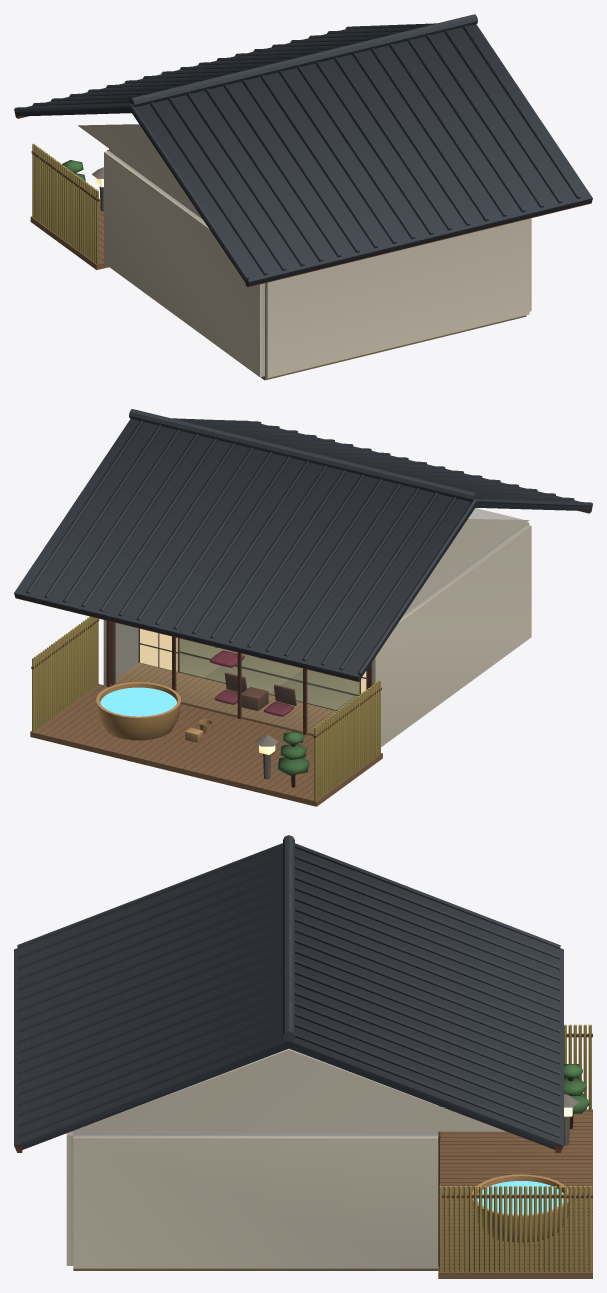
The model's file is hk-onsen.glb.
3 renders of one model, top to bottom at view 1: azimuth 30°, elevation 25°; view 2: azimuth 150°, elevation 25°; view 3: azimuth 270°, elevation 25°, orthographic. The views are drawn at different scales.
Visible parts, largest first — view 1: Room_rooftile, Room_plaster, Room_bamboo, Room_deck, Room_hinokiDark, Room_subfloor; view 2: Room_rooftile, Room_plaster, Room_glass, Room_deck, Room_bamboo, Room_hinoki, Room_hinokiDark, Room_tatami, Room_water, Room_washi, Room_leaf, Room_zabuton (+2 smaller); view 3: Room_rooftile, Room_plaster, Room_deck, Room_bamboo, Room_hinokiDark, Room_ceiling, Room_hinoki, Room_subfloor, Room_water, Room_leaf.
Boxes of the visible parts, x1,y1,x2,y2 form: Room_rooftile: (14,14,592,286); Room_plaster: (78,124,531,377); Room_bamboo: (32,143,98,264); Room_deck: (30,200,108,269); Room_hinokiDark: (16,116,591,287); Room_subfloor: (261,315,526,380); Room_rooftile: (14,409,592,681); Room_plaster: (103,519,531,746); Room_glass: (110,622,367,733); Room_deck: (30,684,382,806); Room_bamboo: (32,616,380,800); Room_hinoki: (96,662,336,742); Room_hinokiDark: (15,511,591,800); Room_tatami: (179,638,359,710); Room_water: (100,687,176,716); Room_washi: (140,628,366,754); Room_leaf: (277,731,309,775); Room_zabuton: (210,650,293,716); Room_rooftile: (14,835,563,1151); Room_plaster: (66,1050,506,1268); Room_deck: (438,1109,592,1278); Room_bamboo: (439,1024,591,1272); Room_hinokiDark: (17,1033,592,1268); Room_ceiling: (73,1048,438,1135); Room_hinoki: (472,1174,568,1242); Room_subfloor: (73,1268,438,1270); Room_water: (477,1181,563,1214); Room_leaf: (564,1064,589,1113).
Size of the model in its own units: 8.45 by 5.27 by 10.47.
